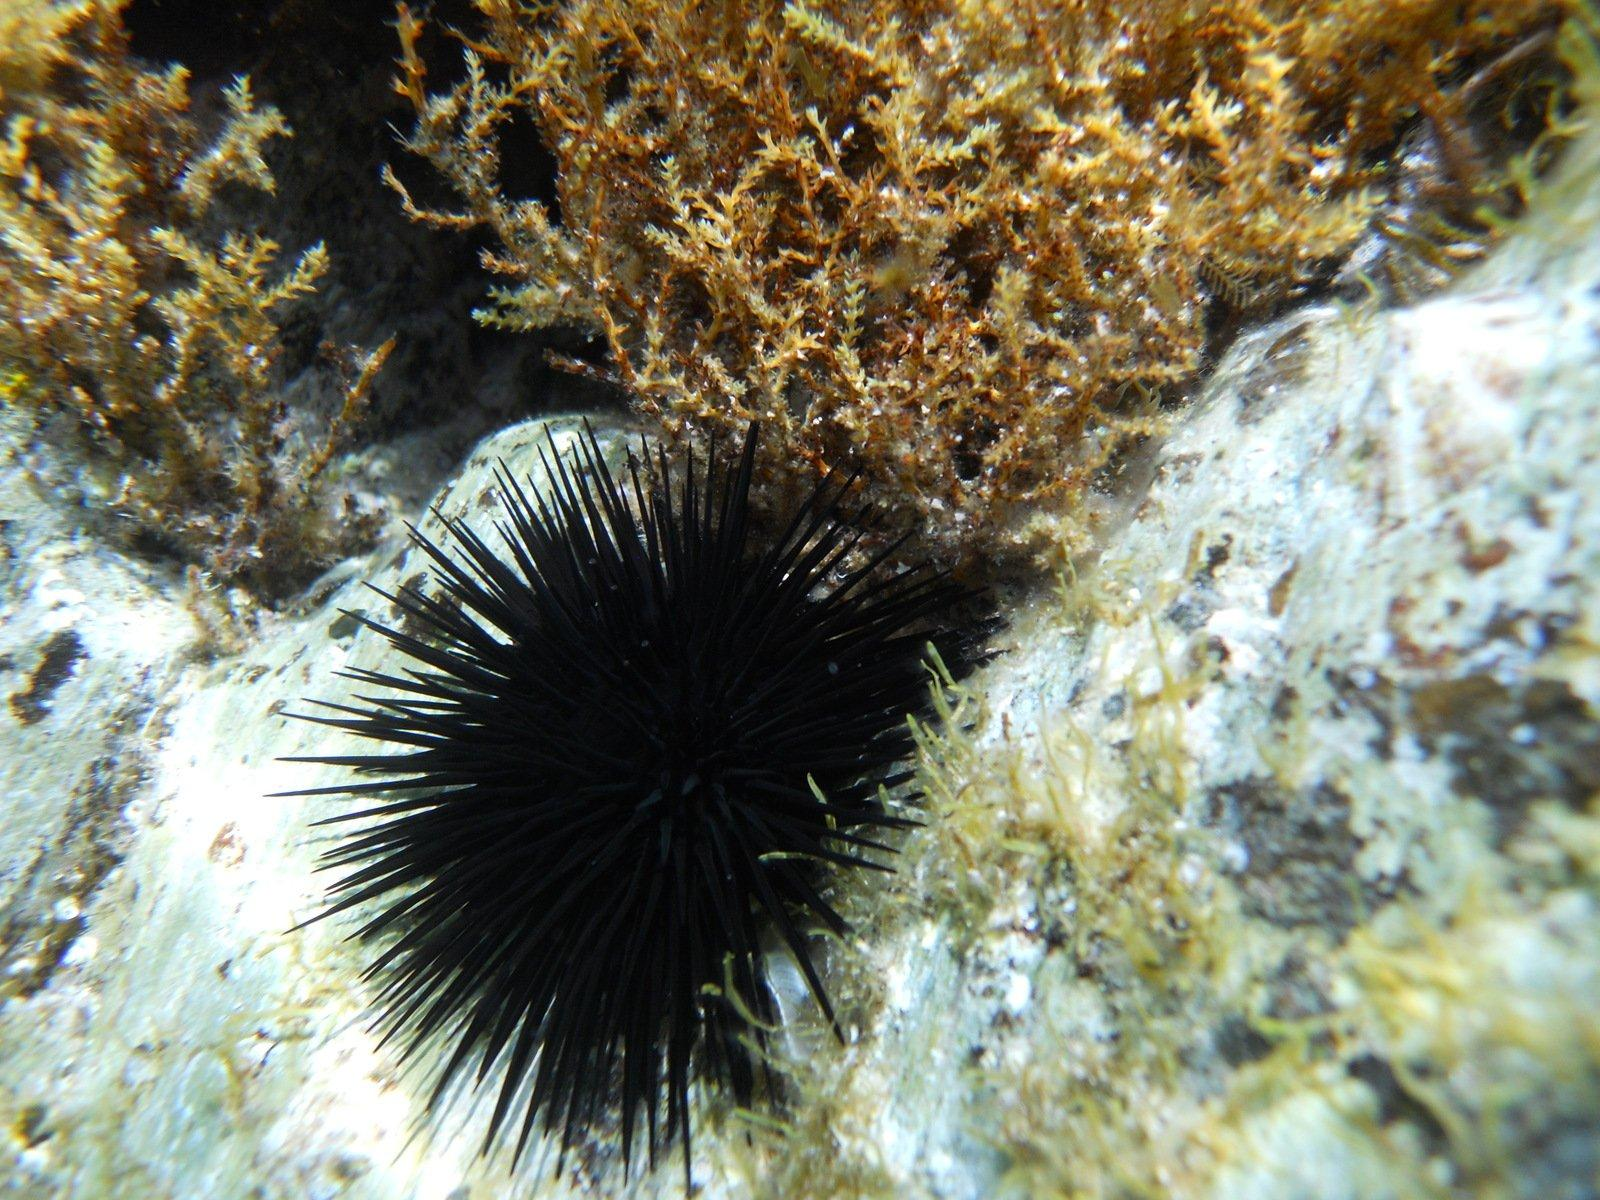urchin: (275, 413, 979, 1161)
